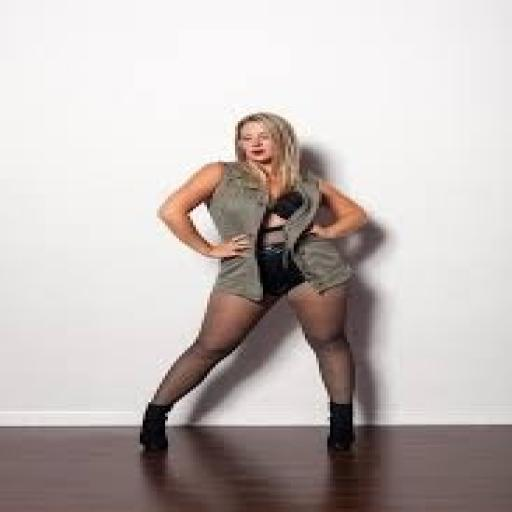dancing: (134, 110, 372, 456)
